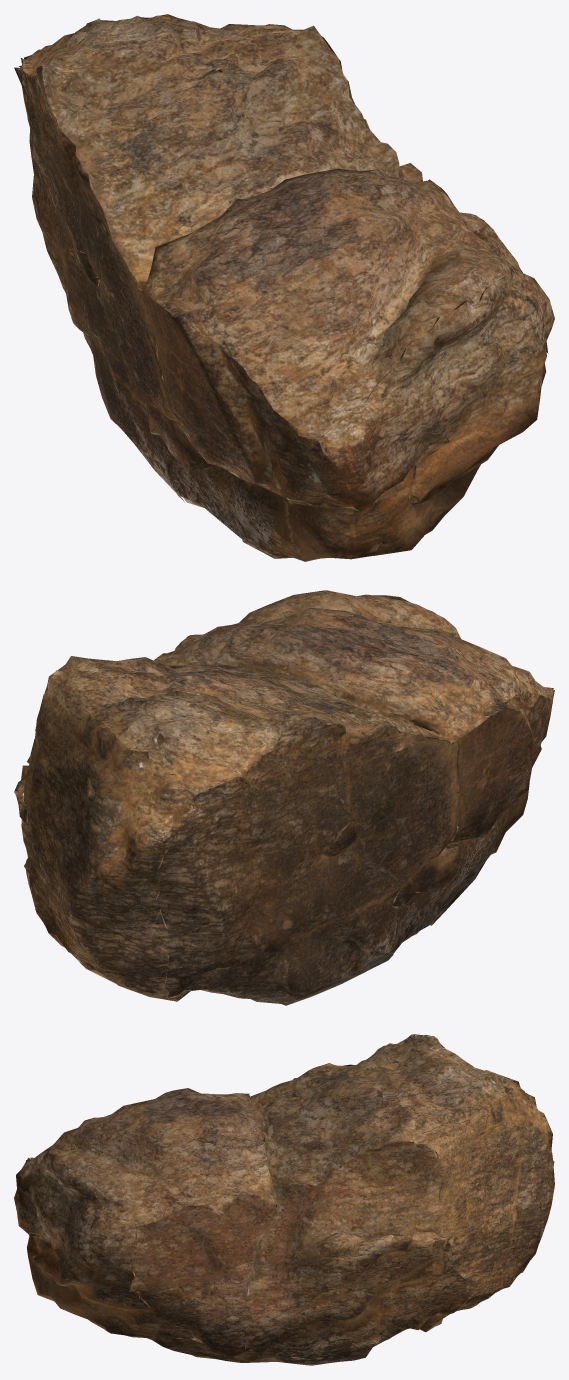
File: namaqualand_boulder_06.glb
The picture shows the model from 3 angles, top to bottom: view 1: azimuth 30°, elevation 25°; view 2: azimuth 150°, elevation 25°; view 3: azimuth 270°, elevation 25°; orthographic projection. The views are drawn at different scales.
Parts seen in each view (by area): view 1: namaqualand_boulder_06; view 2: namaqualand_boulder_06; view 3: namaqualand_boulder_06.
Boxes of the visible parts, x1=… form: namaqualand_boulder_06: x1=14, y1=14, x2=554, y2=561; namaqualand_boulder_06: x1=14, y1=590, x2=554, y2=1005; namaqualand_boulder_06: x1=14, y1=1034, x2=554, y2=1365.
Size of the model in its own units: 0.6746 by 0.6509 by 1.21.
Materials: 1 (1 with a texture image).
